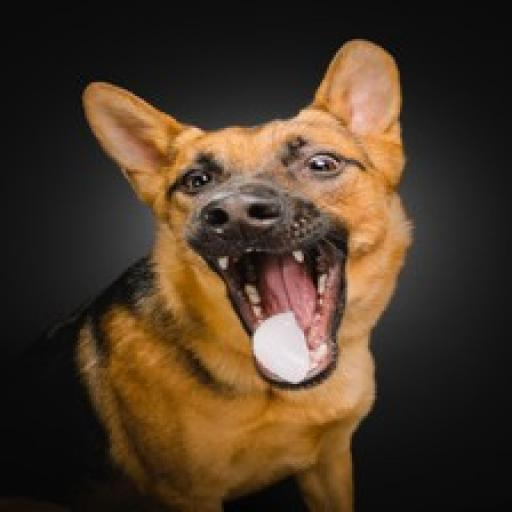dog: (0, 12, 428, 512)
